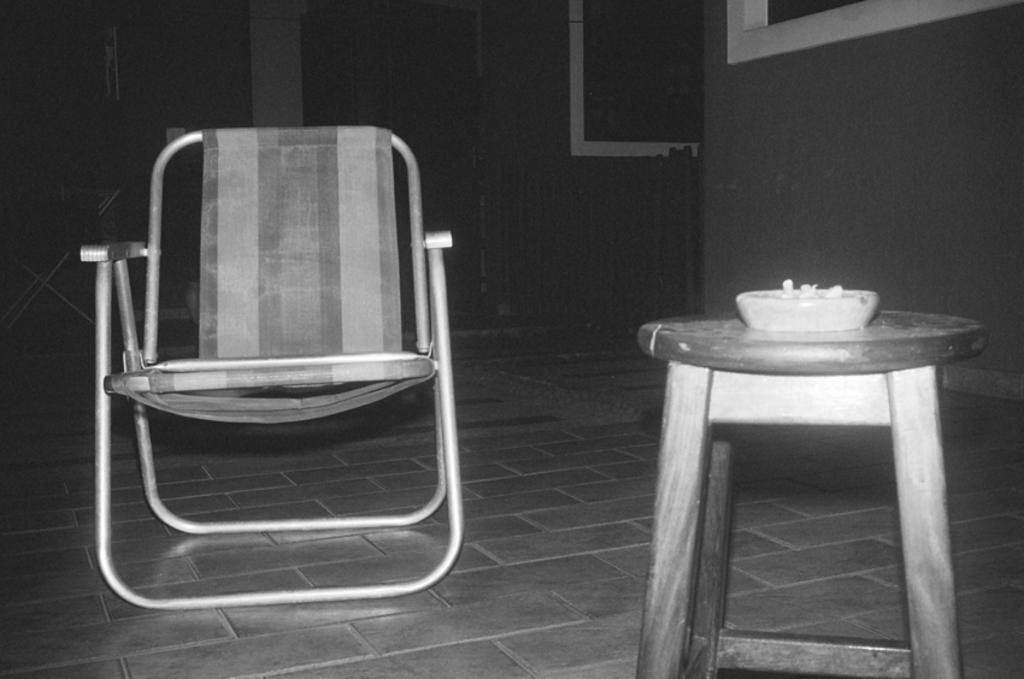Chair: (72, 123, 454, 607)
